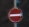No entry: (6, 6, 24, 22)
